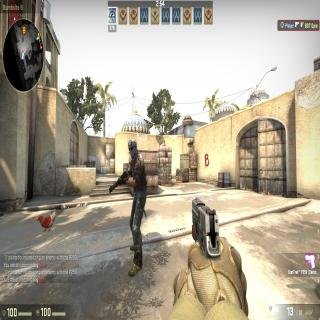T-Body: (122, 135, 148, 279)
T-Head: (126, 135, 140, 160)
